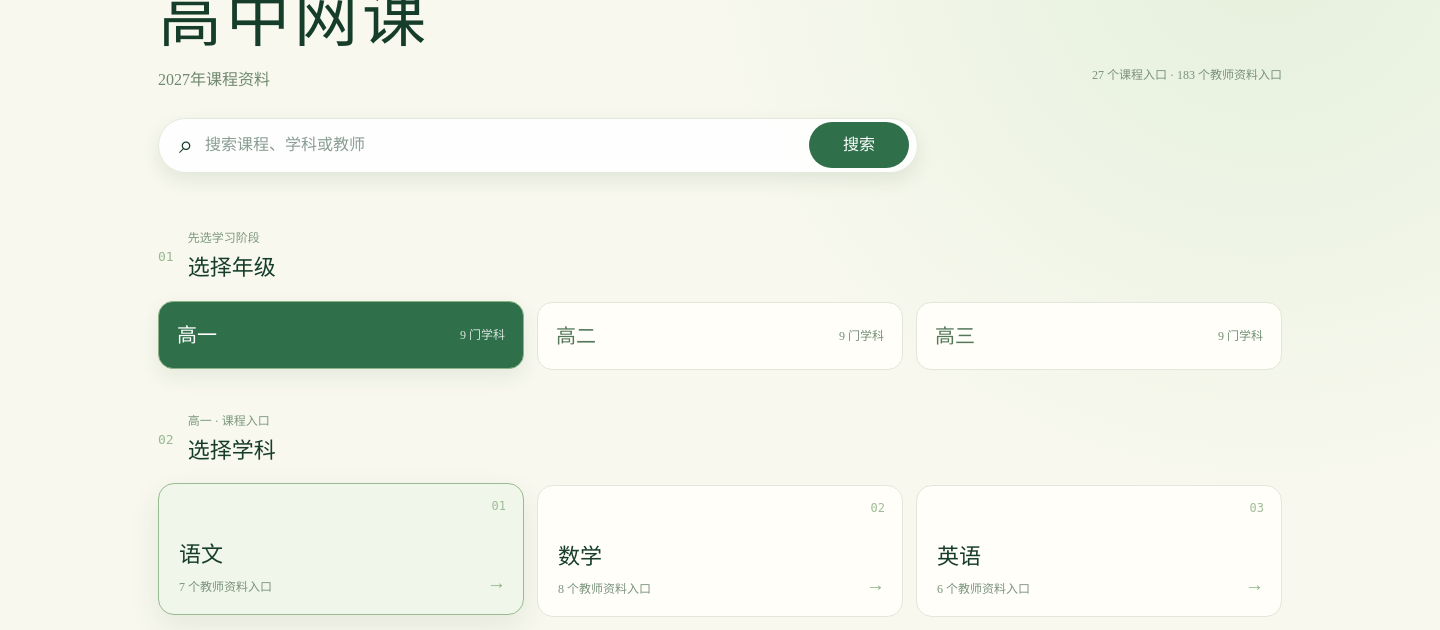
Test: 高中网课课程索引页面 › 使用正式网课资源关键词定位到对应教师入口
Type "电解池" into the field named "搜索高中课程或资料".
click(501, 145); type("电解池")  # box [205,133,797,157]
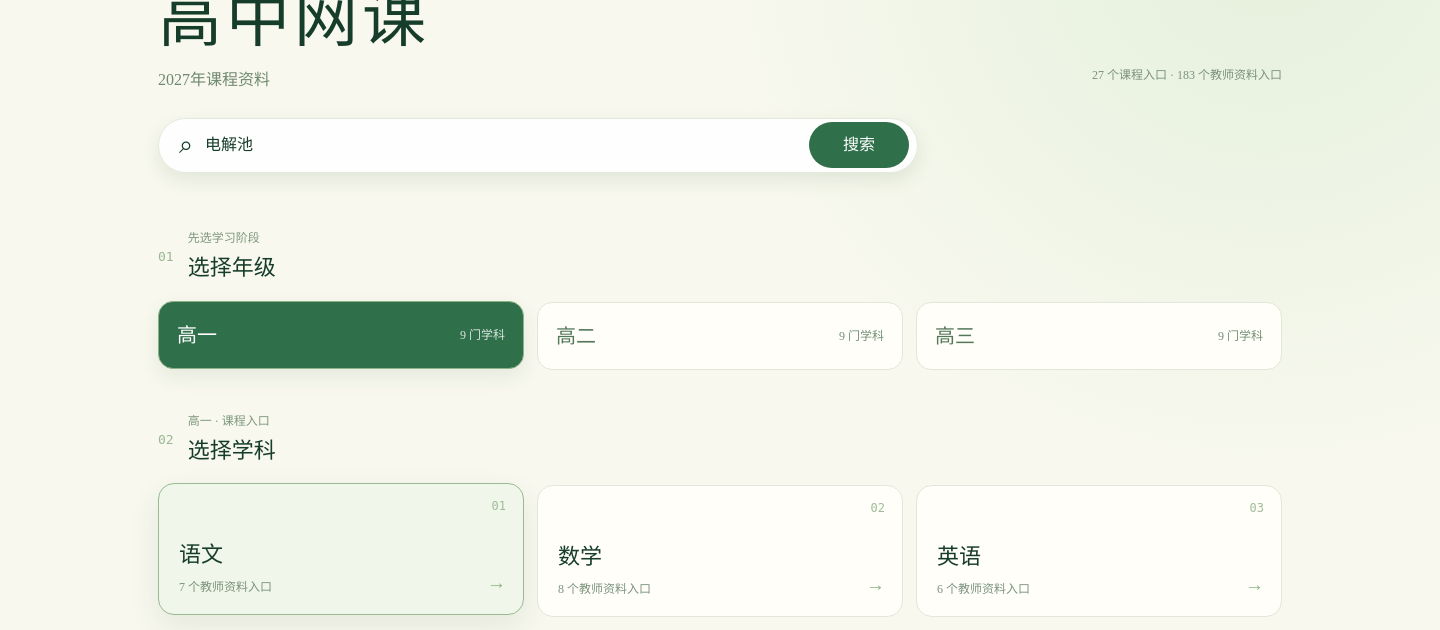
Click the button "搜索".
click(859, 145)  # box [809,122,909,168]
(page scrolled)
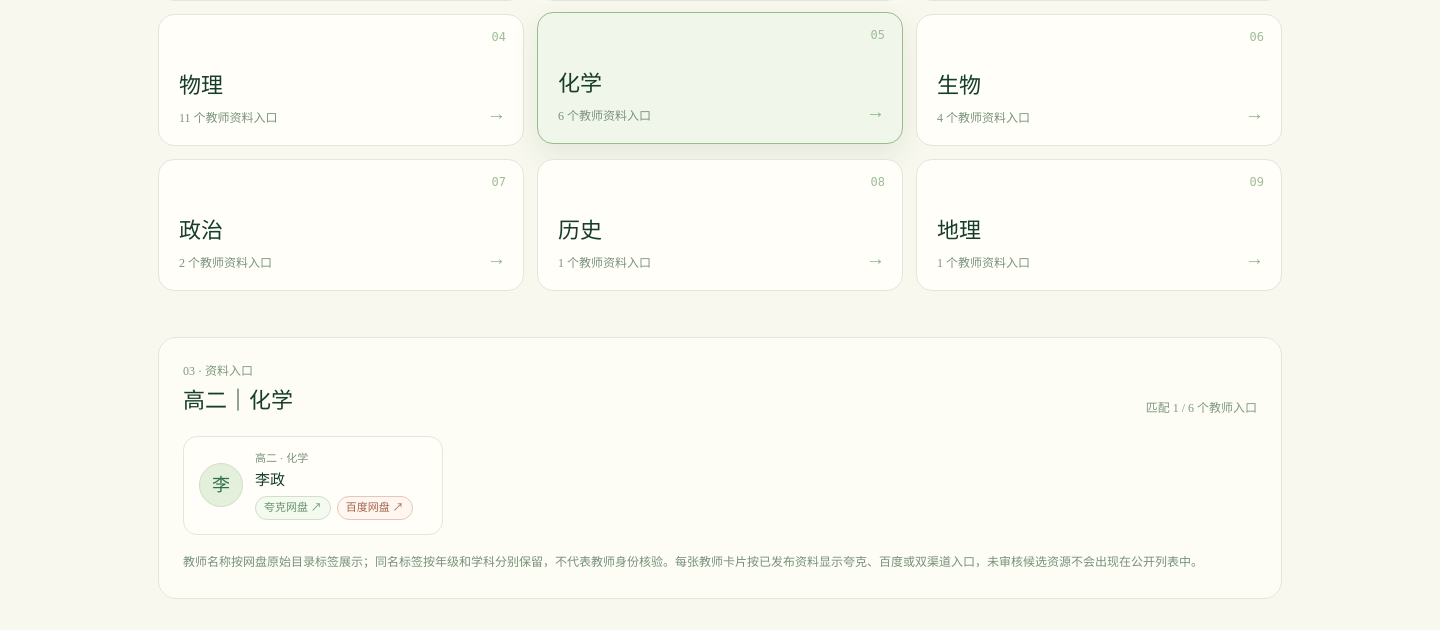
Result: the link "夸克网盘 ↗" is shown at [255,496,331,520]
Result: the link "百度网盘 ↗" is shown at [337,496,413,520]
Result: the number of links "夸克网盘 ↗" is 2 at [255,496,331,520]; [337,496,413,520]
